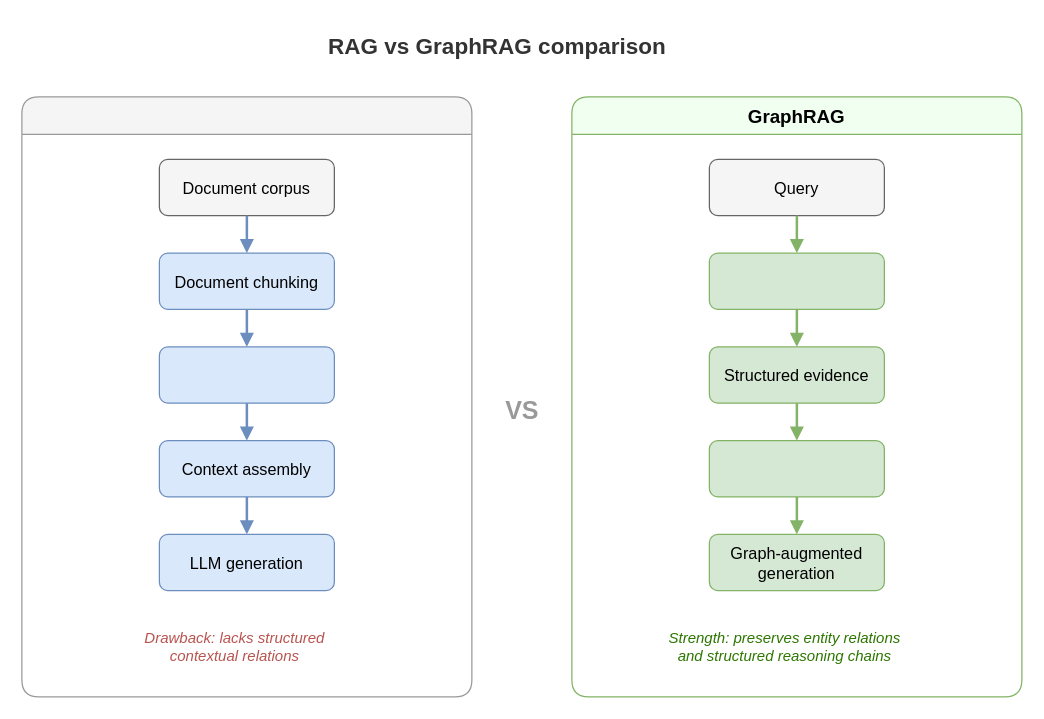
Image size: 1044x719. Some labels were removed from this diagram. The box of each missing label's shape, as (x1, y1, x2, y2) in pixels:
Graph-augmented context: (708, 439, 884, 497)
Subgraph retrieval: (708, 252, 884, 309)
Traditional RAG: (21, 96, 472, 697)
Vector retrieval: (158, 346, 334, 403)
